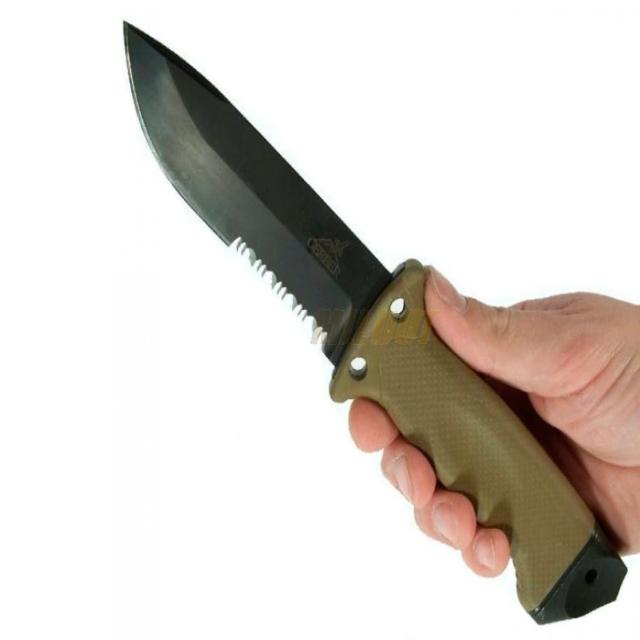knife: (119, 14, 629, 629)
